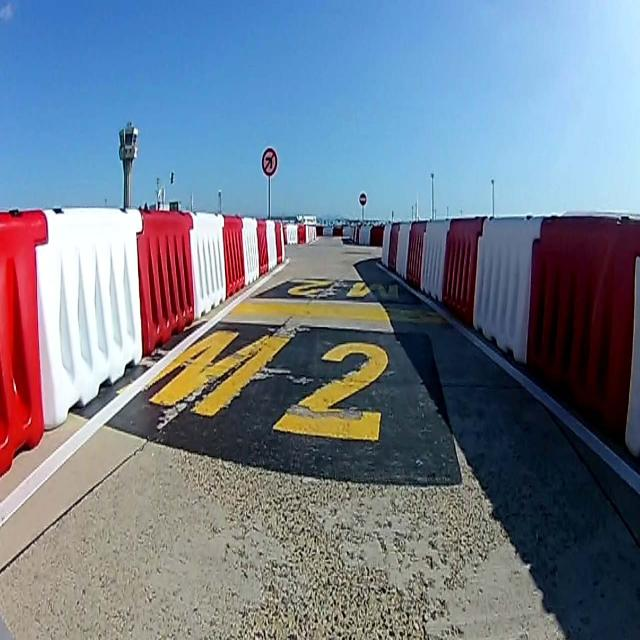soladonulmez: (262, 148, 278, 176)
